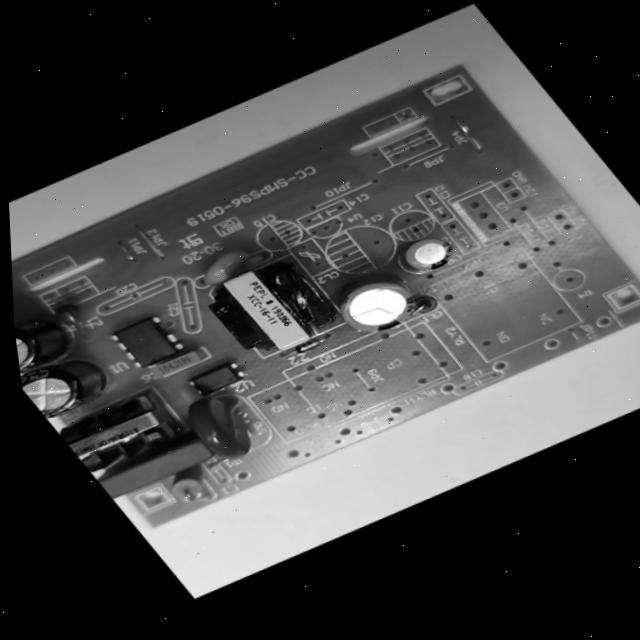Cap1: (326, 264, 438, 347)
Cap2: (395, 229, 466, 280)
Cap3: (19, 344, 117, 425)
Cap4: (14, 303, 77, 376)
MOSFET: (104, 309, 192, 377)
Mov: (173, 379, 278, 473)
Resistor: (159, 461, 223, 507)
Transformer: (189, 248, 344, 372), (54, 387, 189, 480)
